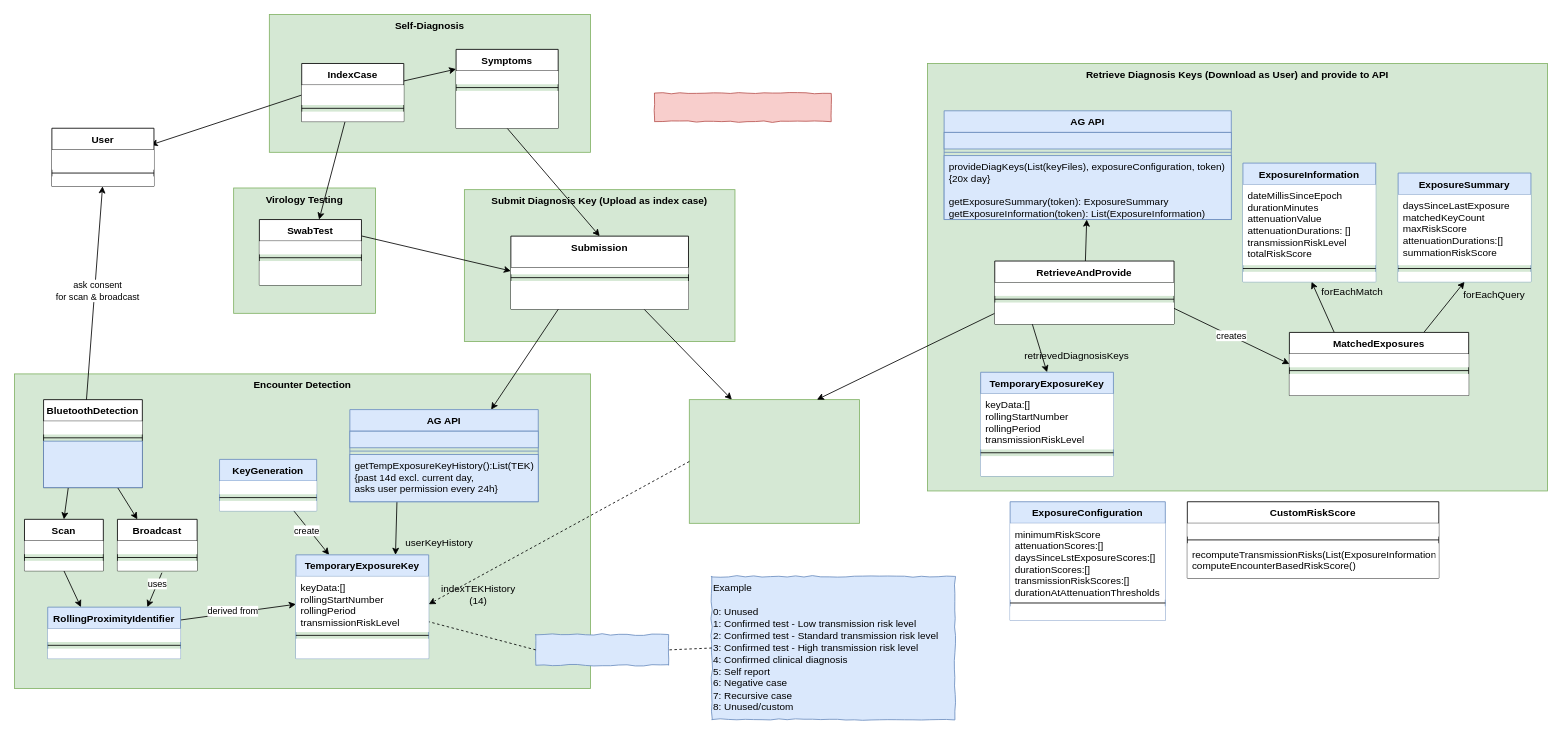
Some shapes in this 1562 by 735 pixel diagram are drawn without their labels. Here are the shapes that lost their labels. From the top down, the centre of each, then its label:
the point at 507,109: gateOne() gateTwo()
the point at 742,107: design drafts 2020-06-25
the point at 310,273: isPositive()
the point at 599,295: setTransmissionRiskLevel(List(TEK))
the point at 92,464: start() stop() isEnabled()
the point at 773,461: Diagnosis Keys Storage
the point at 602,649: transmissionRiskLevel is set before upload to server.
